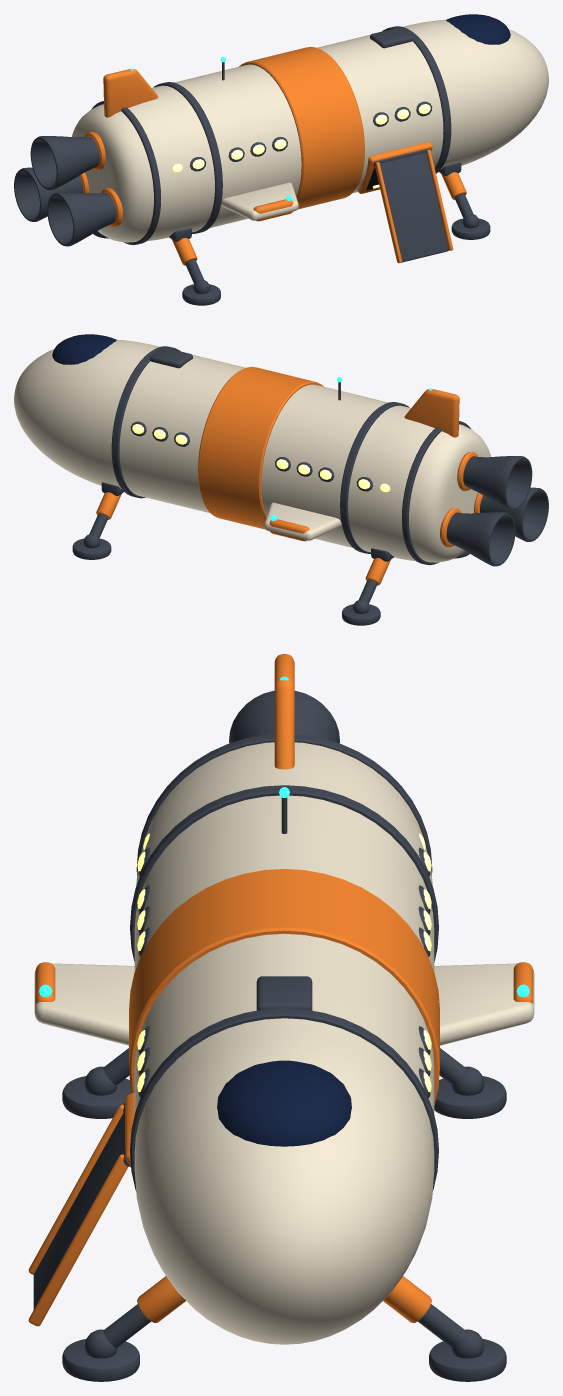
File: ark-v1.glb
3 views of the same model, one above another, from view 1: azimuth 30°, elevation 25°; view 2: azimuth 150°, elevation 25°; view 3: azimuth 270°, elevation 25° (orthographic). The views are drawn at different scales.
Parts seen in each view (by area): view 1: Ark; view 2: Ark; view 3: Ark.
Boxes of the visible parts, x1,y1,x2,y2 form: Ark: (14,14,548,305); Ark: (14,334,548,625); Ark: (28,654,534,1381).
Bounding box in the file's own units: 20.75 × 8.02 × 9.11.
